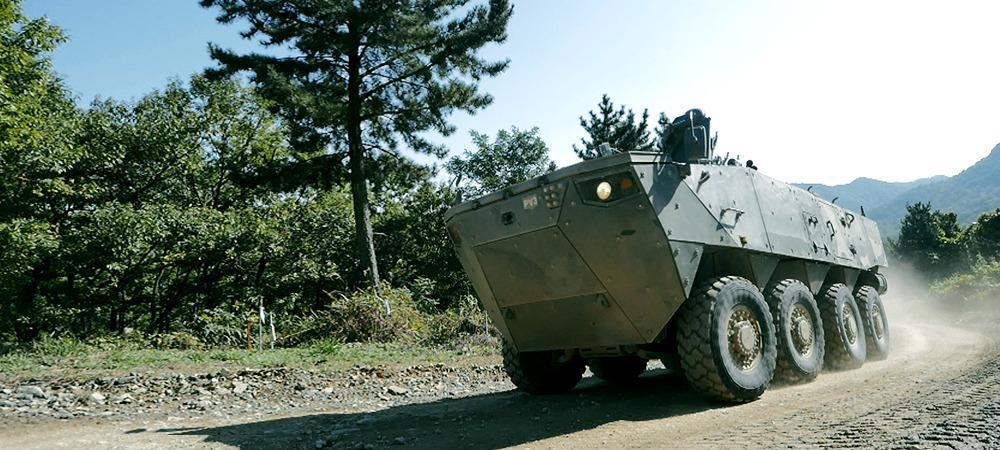MIL_IFV: (445, 103, 892, 406)
